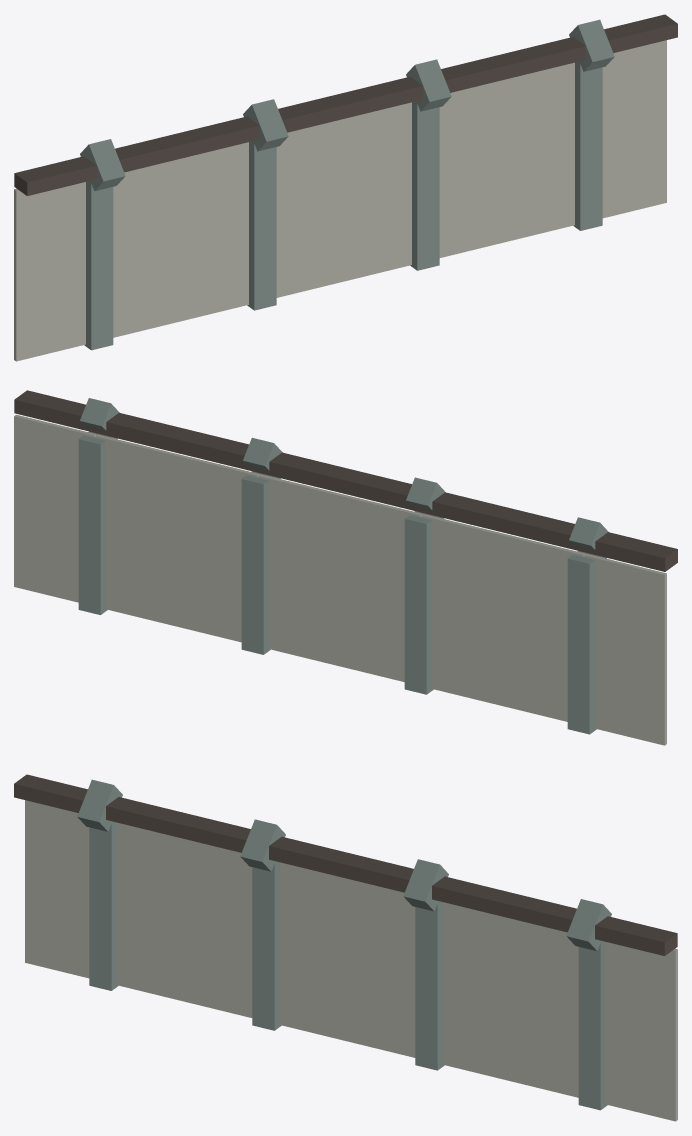
The model's file is SM_VallaBase_v0_LOD1.fbx.
3 renders of one model, top to bottom at view 1: azimuth 30°, elevation 25°; view 2: azimuth 150°, elevation 25°; view 3: azimuth 330°, elevation 25°, orthographic.
Visible parts, largest first — view 1: SM_valla_base_v0_LOD1; view 2: SM_valla_base_v0_LOD1; view 3: SM_valla_base_v0_LOD1.
Part boxes in pixels (box(x1,y1,x2,y2)): SM_valla_base_v0_LOD1: box(14, 14, 677, 361); SM_valla_base_v0_LOD1: box(14, 390, 677, 745); SM_valla_base_v0_LOD1: box(14, 774, 677, 1121).
Bounding box in the file's own units: 9.98 × 2.99 × 0.6647.
